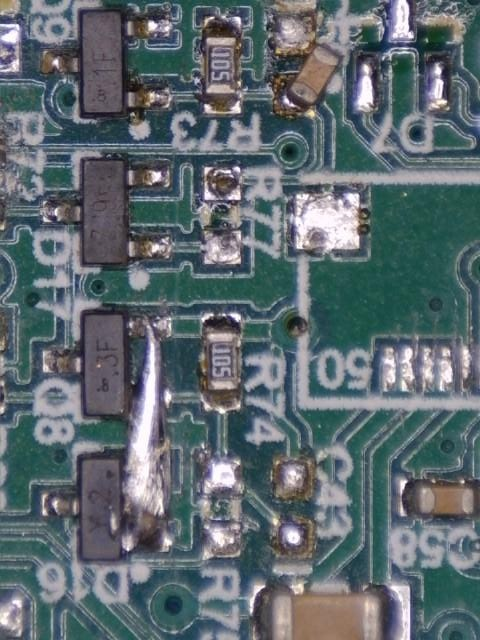pcb_defect: (121, 325, 171, 550), (273, 15, 342, 116)
